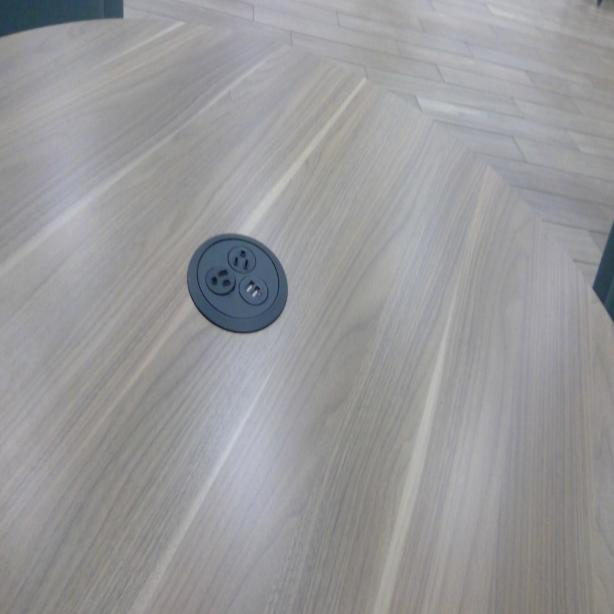typeb: (207, 265, 231, 297), (232, 246, 252, 271)
